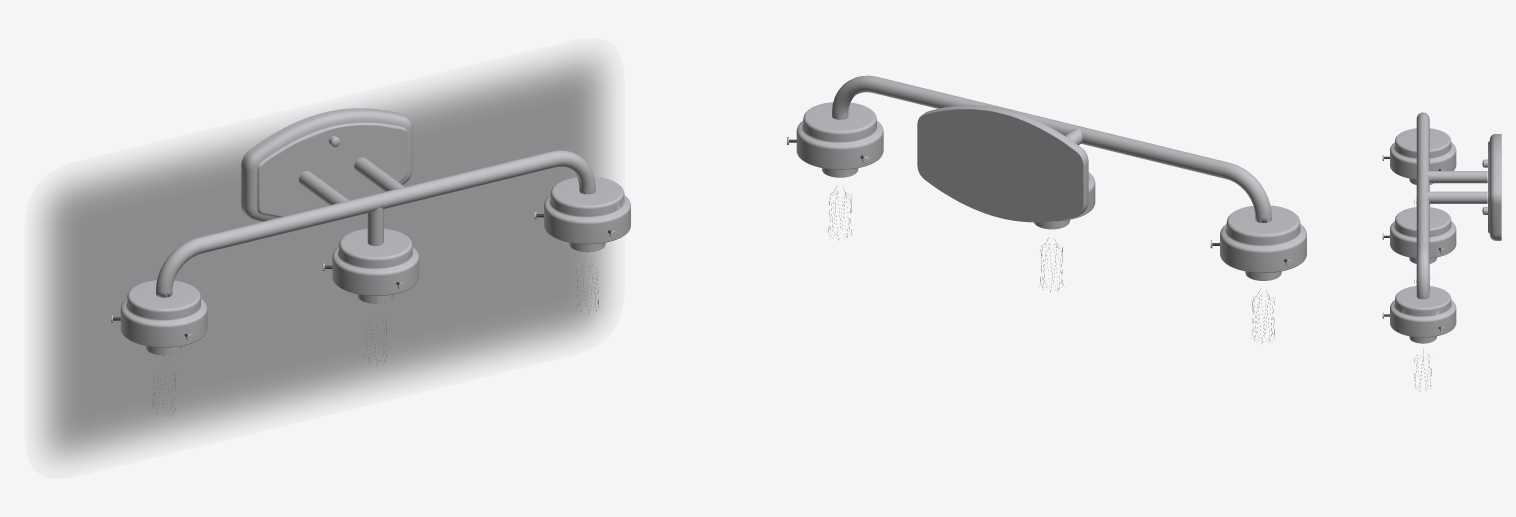
The model's file is abo-b07b4z9c39.47a3dbd04b.ar.glb.
3 views of the same model, side by side, from view 1: azimuth 30°, elevation 25°; view 2: azimuth 150°, elevation 25°; view 3: azimuth 270°, elevation 25° (orthographic). The views are drawn at different scales.
Visible parts, largest first — view 1: object 2, "$AKJJCNGJEHBAAAAAICBAAAAAAAAAHCGNONBD"; view 2: "$AKJJCNGJEHBAAAAAICBAAAAAAAAAHCGNONBD"; view 3: "$AKJJCNGJEHBAAAAAICBAAAAAAAAAHCGNONBD".
Boxes of the visible parts, <box> form: object 2: <box>41,57,608,459</box>; "$AKJJCNGJEHBAAAAAICBAAAAAAAAAHCGNONBD": <box>111,108,630,417</box>; "$AKJJCNGJEHBAAAAAICBAAAAAAAAAHCGNONBD": <box>787,75,1306,343</box>; "$AKJJCNGJEHBAAAAAICBAAAAAAAAAHCGNONBD": <box>1382,112,1501,391</box>.
Size of the model in its own units: 0.7176 by 0.3721 by 0.1773.
Materials: 2 (2 with a texture image).
